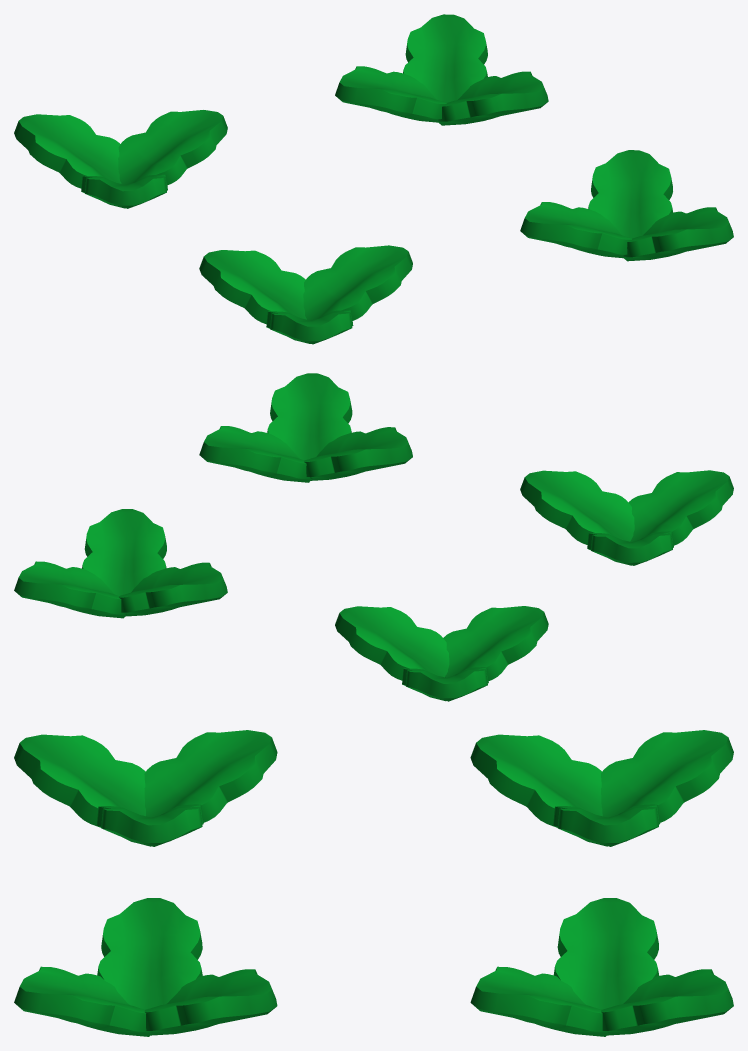
The model's file is Farm_Crop_Broccoli_Step_01.fbx.
3 views of the same model, one above another, from view 1: azimuth 30°, elevation 25°; view 2: azimuth 150°, elevation 25°; view 3: azimuth 270°, elevation 25° (orthographic). The views are drawn at different scales.
Visible parts, largest first — view 1: Farm_Crop_Broccoli_Step_01; view 2: Farm_Crop_Broccoli_Step_01; view 3: Farm_Crop_Broccoli_Step_01.
Boxes of the visible parts, box(x1,y1,x2,y2) form: Farm_Crop_Broccoli_Step_01: box(14, 14, 733, 344); Farm_Crop_Broccoli_Step_01: box(14, 373, 733, 701); Farm_Crop_Broccoli_Step_01: box(14, 730, 733, 1036).
Bounding box in the file's own units: 142 × 18.38 × 158.
